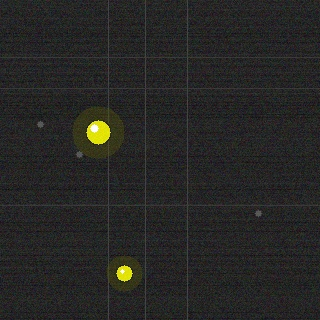yellow_warning: (84, 118, 112, 146), (114, 263, 134, 283)
